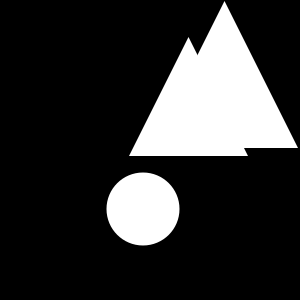rectangle: (106, 172, 180, 246)
triangle: (151, 1, 298, 148), (129, 37, 248, 156)
